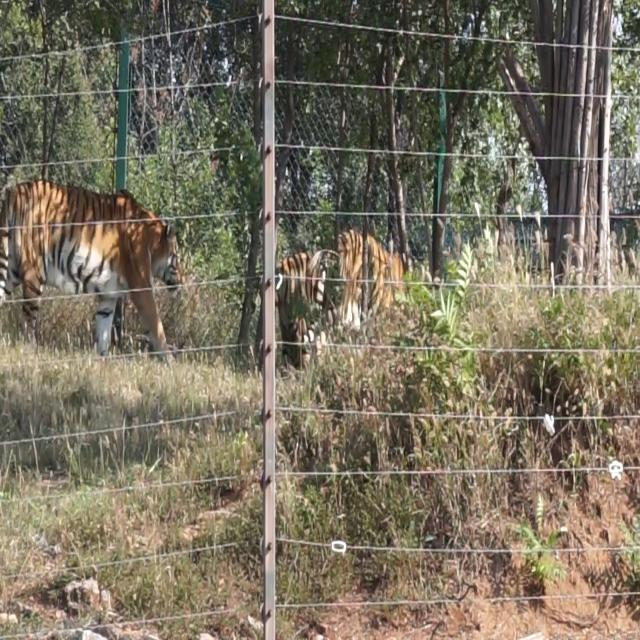Tiger: (0, 171, 185, 360), (319, 222, 414, 334), (266, 249, 334, 362)
